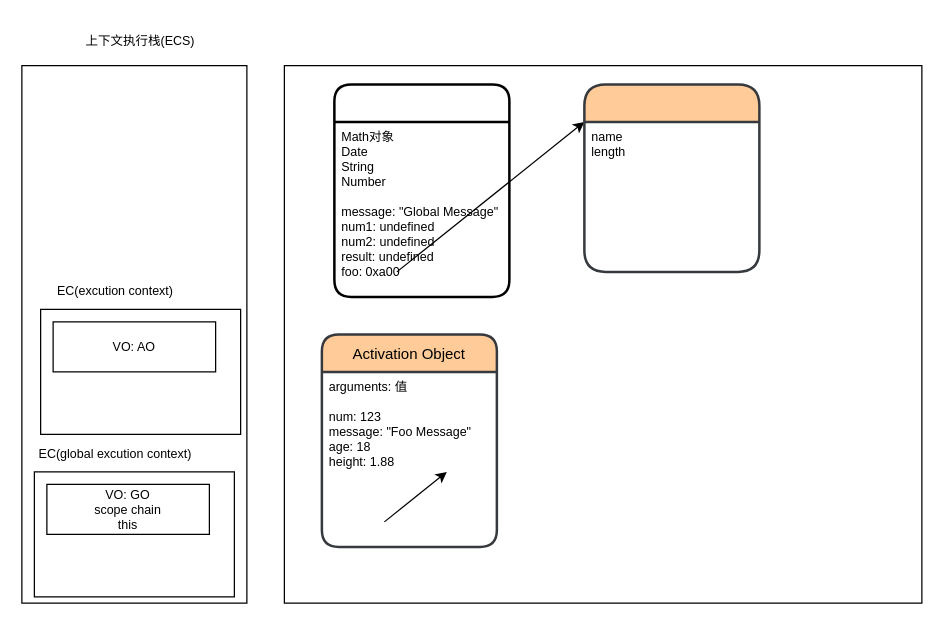
The diagram is 944 pixels wide and 625 high, and some of its shapes have lost their labels. The box of each missing label's shape, as (x1, y1, x2, y2) in pixels:
Function Object(foo) 0xa00: (582, 82, 760, 272)
Global Object(window): (332, 82, 510, 298)
